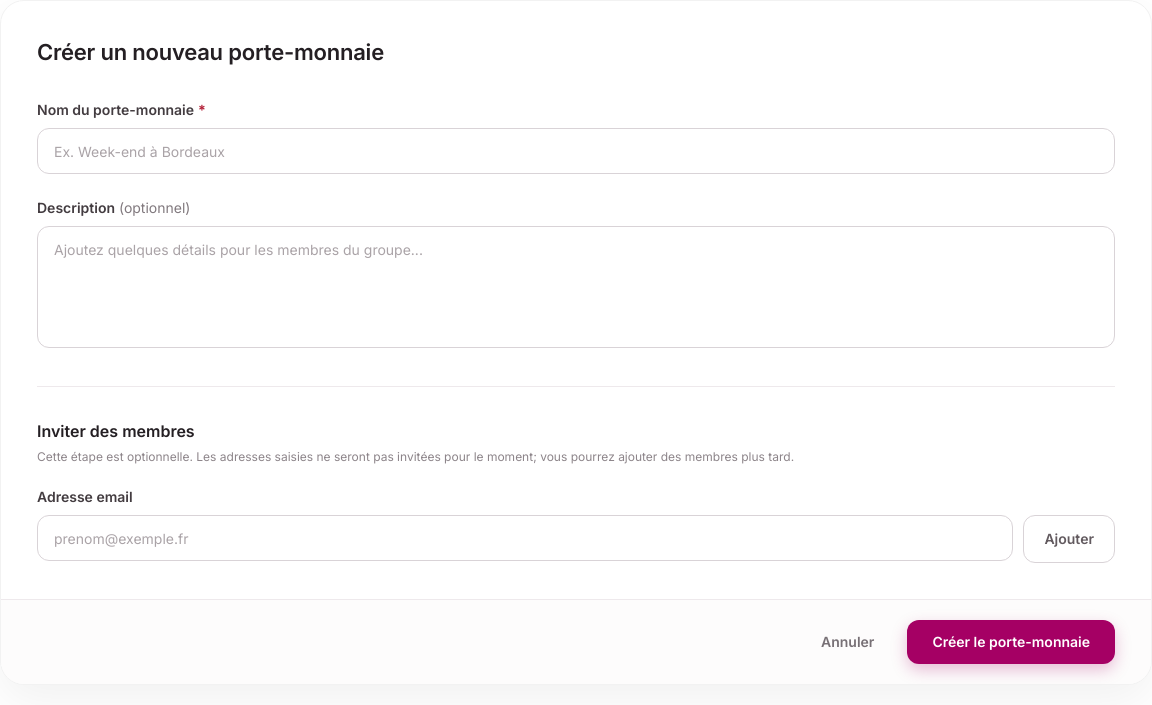
création d’un porte-monnaie › affiche l’erreur de validation renvoyée par l’API
Type "Voyage" into the field labelled "Nom du porte-monnaie*".
click(576, 151); type("Voyage")  # box x1=37 y1=128 x2=1115 y2=174
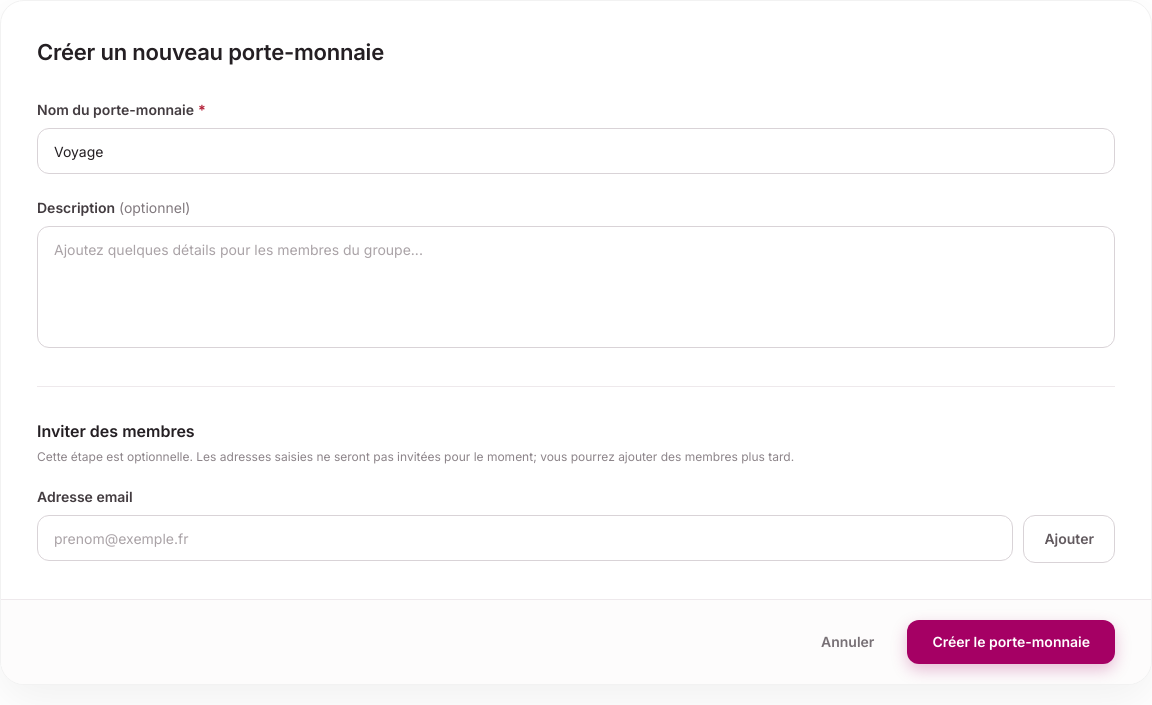
Click the button "Créer le porte-monnaie".
click(1011, 642)  # box x1=907 y1=620 x2=1115 y2=664
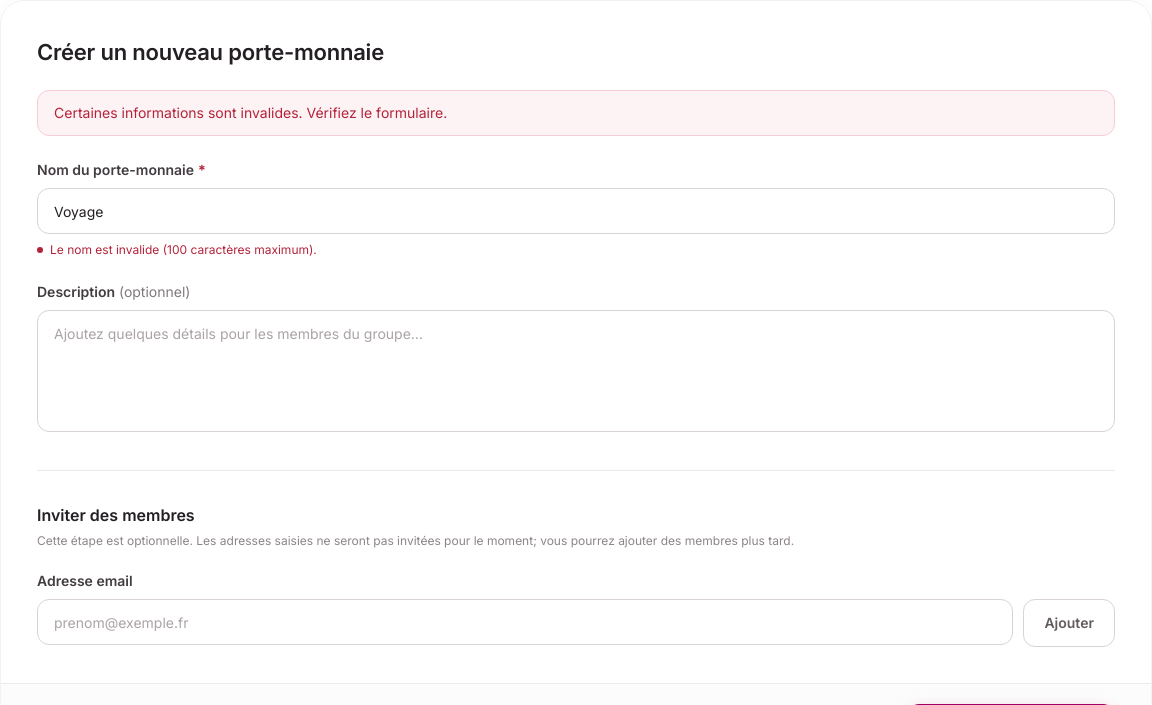
Now the text "Le nom est invalide (100 caractères maximum)." is shown, box x1=50 y1=242 x2=317 y2=257
